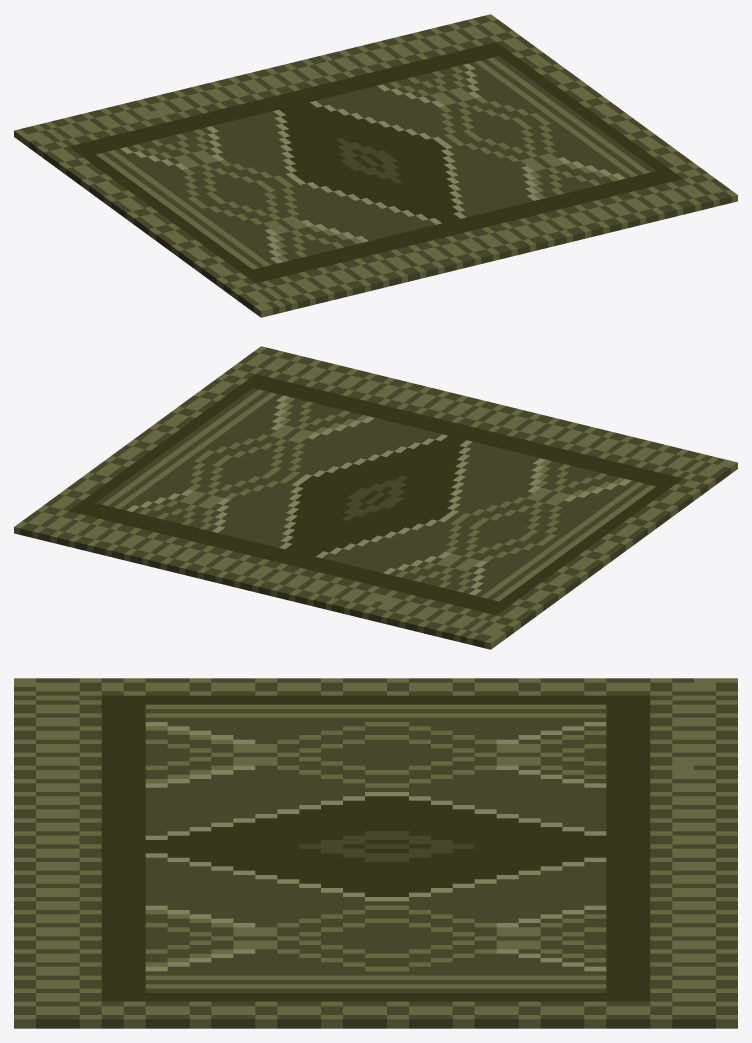
The model's file is tapis_chambre1.fbx.
The picture shows the model from 3 angles, top to bottom: view 1: azimuth 30°, elevation 25°; view 2: azimuth 150°, elevation 25°; view 3: azimuth 270°, elevation 25°; orthographic projection. The views are drawn at different scales.
Visible parts, largest first — view 1: Tapis chambre 1; view 2: Tapis chambre 1; view 3: Tapis chambre 1.
Boxes of the visible parts, x1,y1,x2,y2 form: Tapis chambre 1: (14, 14, 737, 317); Tapis chambre 1: (14, 346, 737, 649); Tapis chambre 1: (14, 678, 737, 1028).
Bounding box in the file's own units: 78 × 1 × 70.
